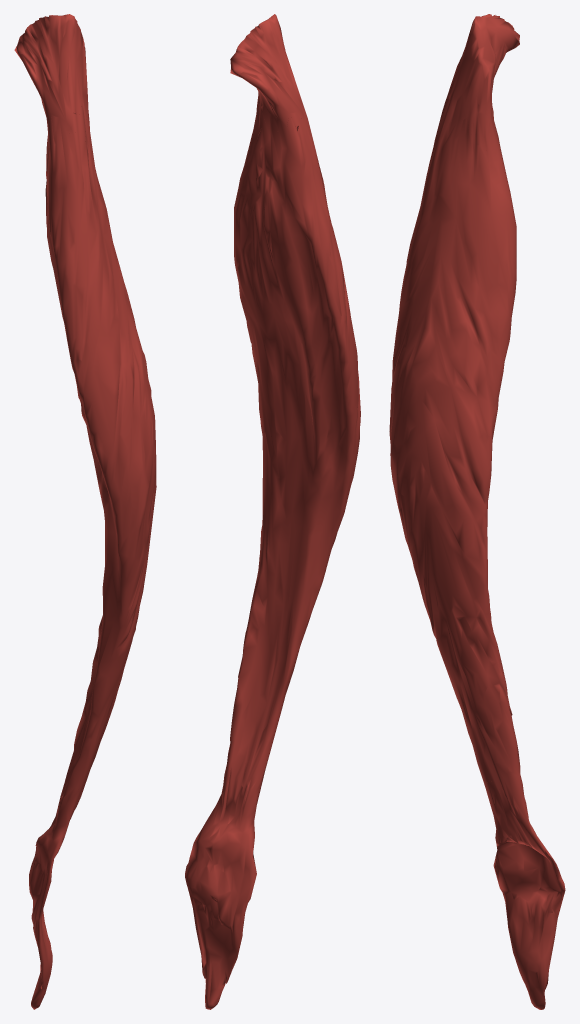
The model's file is musculos-rectus-femoris-muscle-r.glb.
3 views of the same model, side by side, from view 1: azimuth 90°, elevation 25°; view 2: azimuth 150°, elevation 25°; view 3: azimuth 330°, elevation 25° (orthographic). The views are drawn at different scales.
Parts seen in each view (by area): view 1: Rectus femoris muscle.r; view 2: Rectus femoris muscle.r; view 3: Rectus femoris muscle.r.
Part boxes in pixels (x1,y1,x2,y2): Rectus femoris muscle.r: [14, 14, 156, 1009]; Rectus femoris muscle.r: [185, 14, 360, 1009]; Rectus femoris muscle.r: [389, 14, 565, 1009].
Bounding box in the file's own units: 0.0816 × 0.5453 × 0.0689.
